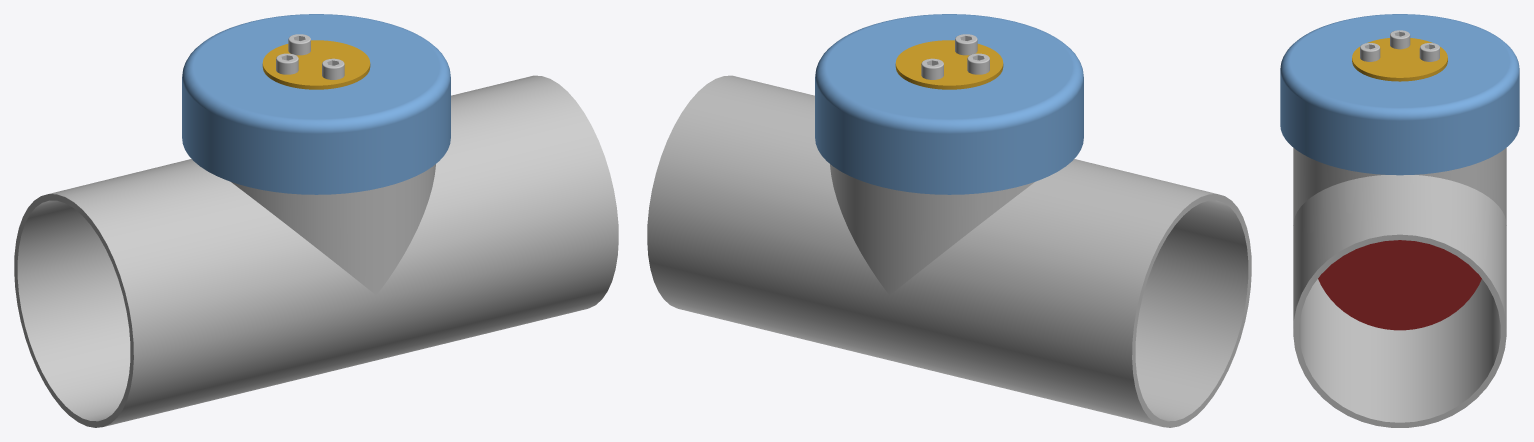
The picture shows the model from 3 angles, left to right: view 1: azimuth 30°, elevation 25°; view 2: azimuth 150°, elevation 25°; view 3: azimuth 270°, elevation 25°; orthographic projection. The views are drawn at different scales.
Visible parts, largest first — view 1: b2, b5, b8; view 2: b2, b5, b8; view 3: b2, b5, b22, b8, b31, b33, b35.
Boxes of the visible parts, <box> form: b2: <box>14,75,618,427</box>; b5: <box>182,14,450,194</box>; b8: <box>262,40,370,89</box>; b2: <box>647,75,1251,427</box>; b5: <box>815,14,1083,194</box>; b8: <box>895,40,1003,89</box>; b2: <box>1293,148,1506,427</box>; b5: <box>1280,14,1519,175</box>; b22: <box>1318,240,1481,330</box>; b8: <box>1352,38,1447,81</box>; b31: <box>1390,30,1410,49</box>; b33: <box>1419,43,1439,61</box>; b35: <box>1360,43,1380,61</box>.
Bounding box in the file's own units: 250 × 152 × 120.
